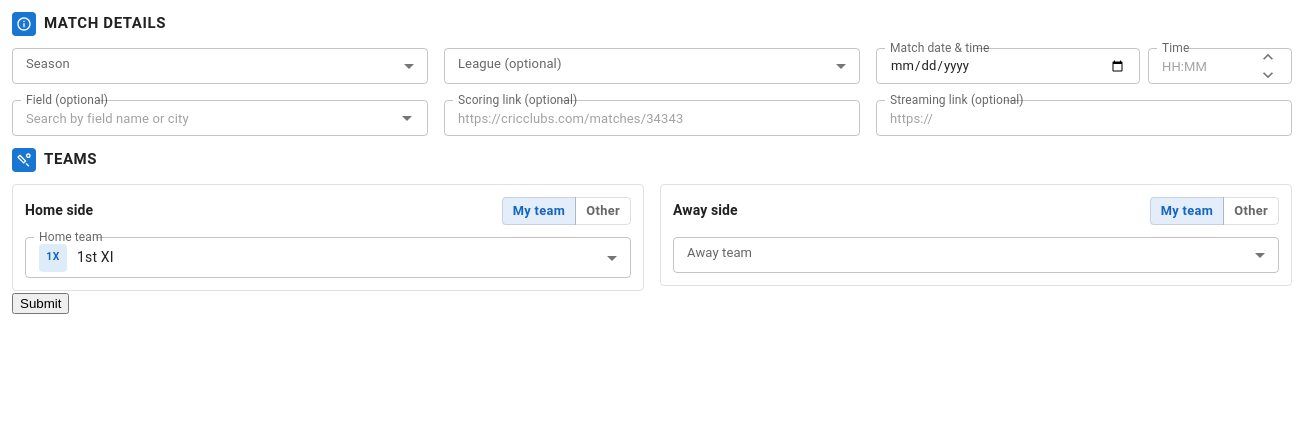
Test: MatchForm › My team picker details › works with no section information: a plain list and no details line
Click the dropdown named "Home team" at (76, 258), box 39,244 -> 114,272
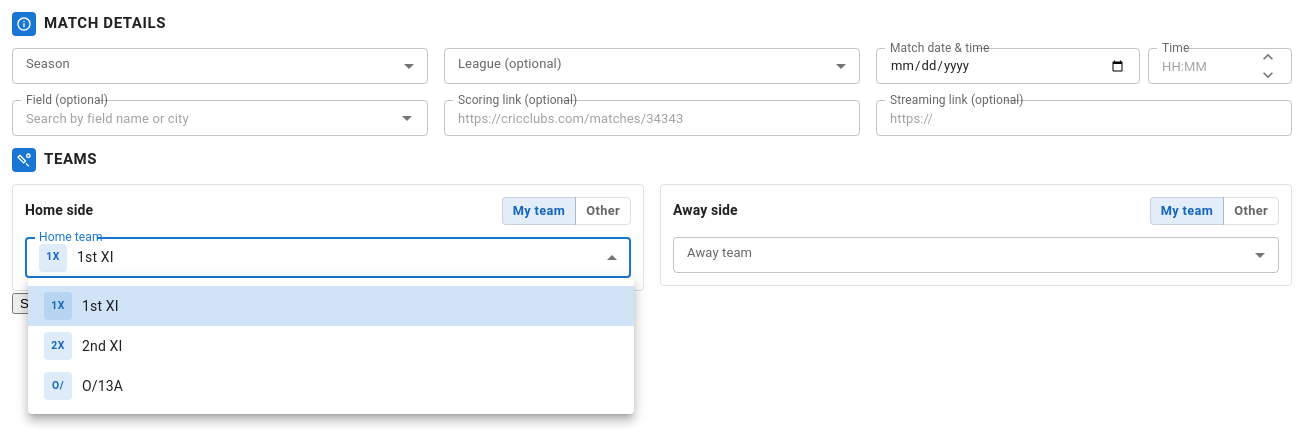
Check: the option "1X 1st XI" is shown, box 28,286 -> 634,326
